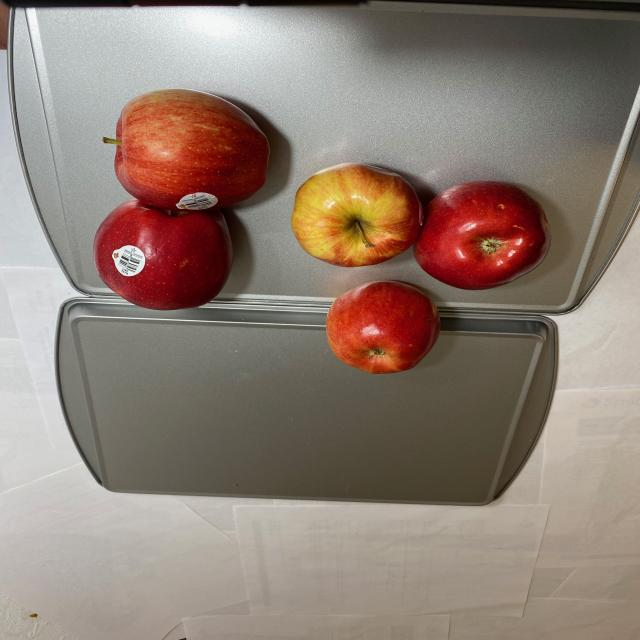apple: (291, 159, 557, 376), (90, 85, 275, 312)
